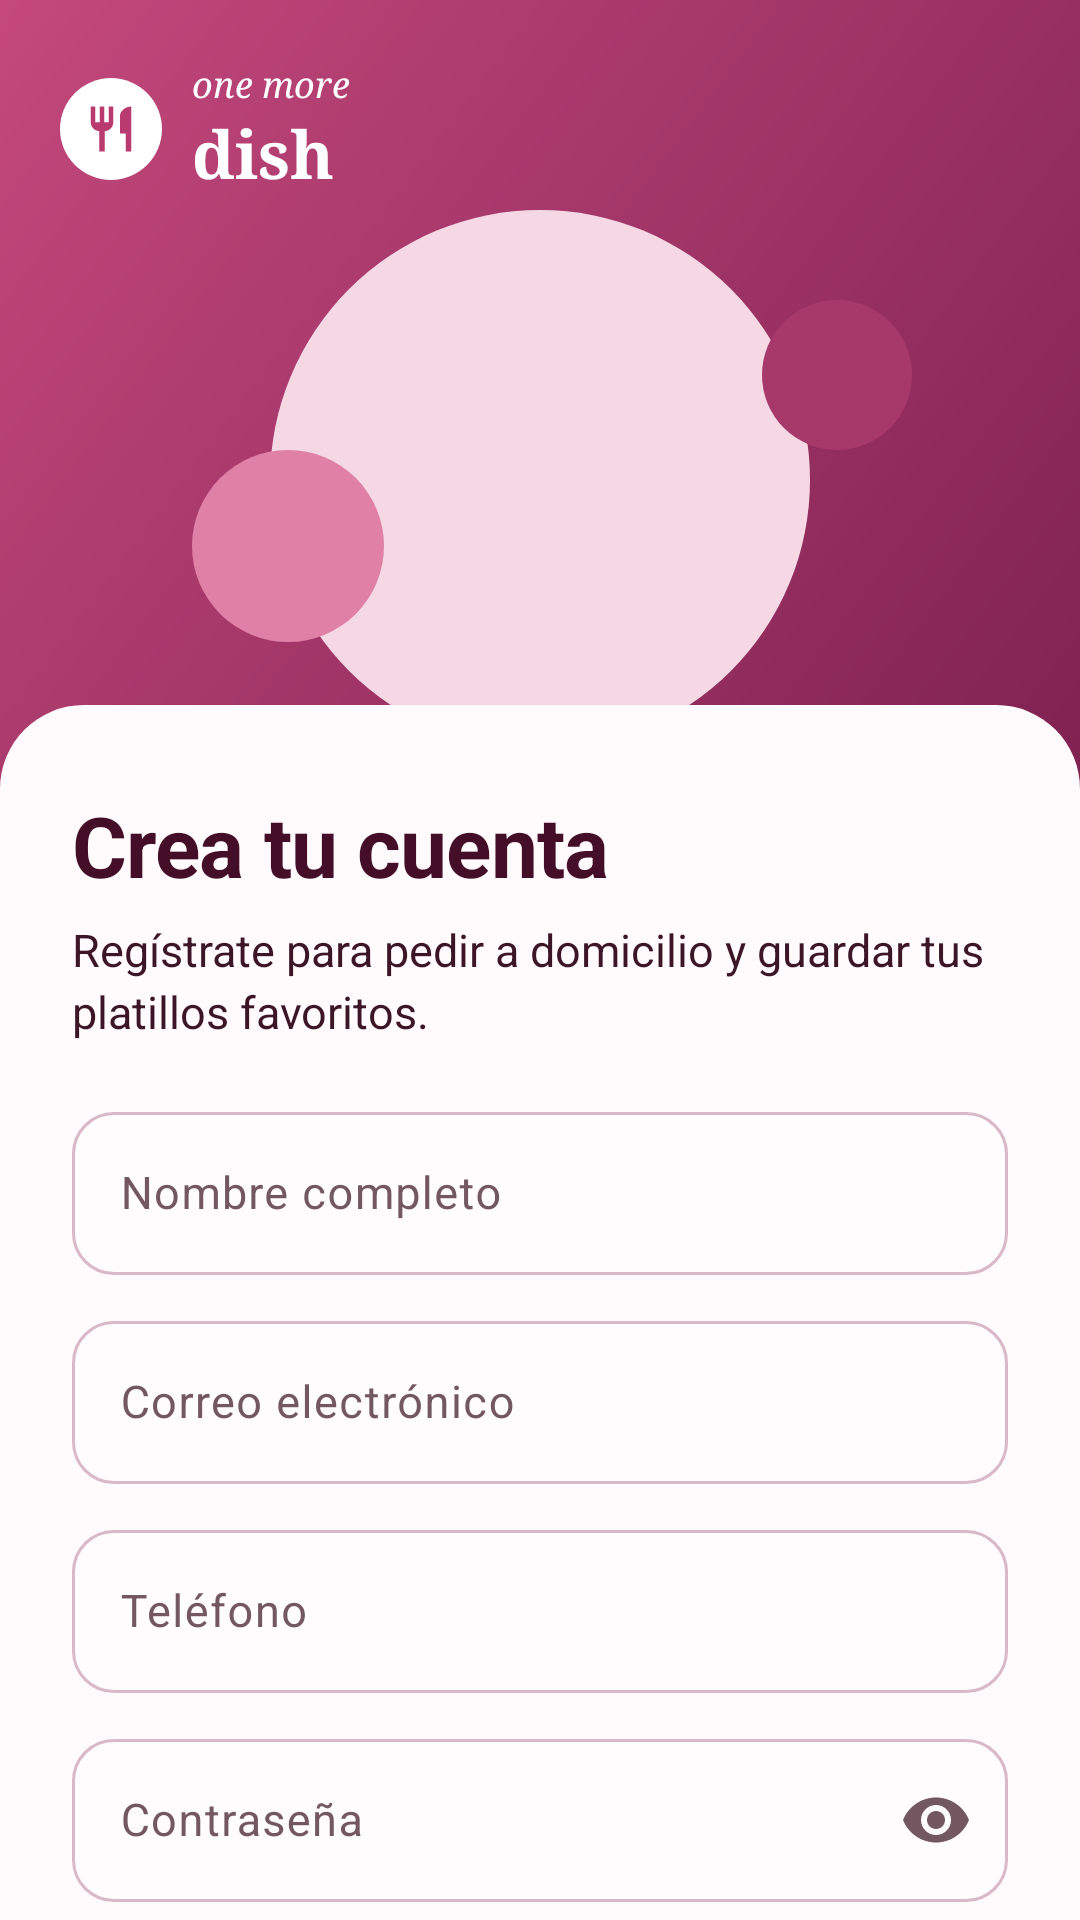

Icons on this 1080×1920 Android screen, each with its box as (x1, y1, x2, y2):
cubiertos: (90, 106, 132, 152)
